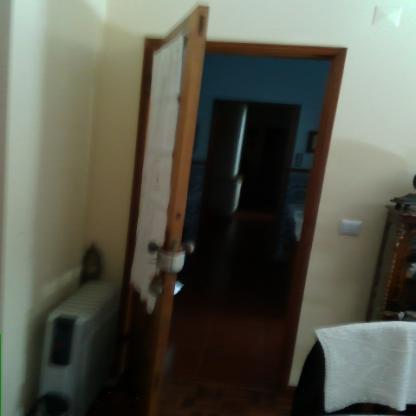semi: (129, 4, 352, 415)
